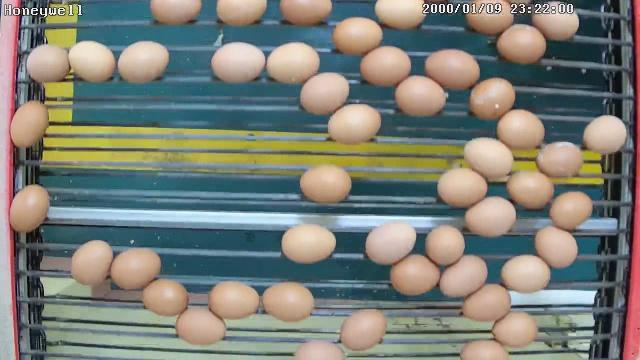egg: (266, 39, 322, 86), (116, 38, 170, 86), (326, 101, 383, 146), (208, 40, 266, 84), (424, 48, 482, 92), (364, 218, 416, 266), (358, 44, 414, 88), (110, 244, 162, 291), (388, 250, 440, 297), (436, 252, 488, 299), (280, 222, 338, 264), (464, 194, 518, 239), (394, 74, 449, 118), (298, 162, 353, 206), (504, 166, 556, 212), (436, 166, 490, 210), (298, 71, 350, 116), (462, 136, 514, 181), (8, 183, 52, 236), (175, 304, 228, 348), (496, 22, 549, 66), (8, 96, 51, 150), (498, 252, 553, 294), (68, 38, 118, 84), (262, 282, 316, 324), (497, 106, 548, 150), (332, 15, 384, 58), (207, 278, 260, 320), (533, 224, 580, 271), (68, 238, 114, 286), (468, 74, 516, 120), (340, 306, 388, 351), (536, 139, 586, 180), (462, 282, 514, 321), (582, 112, 628, 156), (491, 308, 539, 350), (140, 276, 190, 316), (530, 3, 580, 42), (550, 188, 594, 232), (423, 224, 467, 267), (25, 42, 70, 84)
